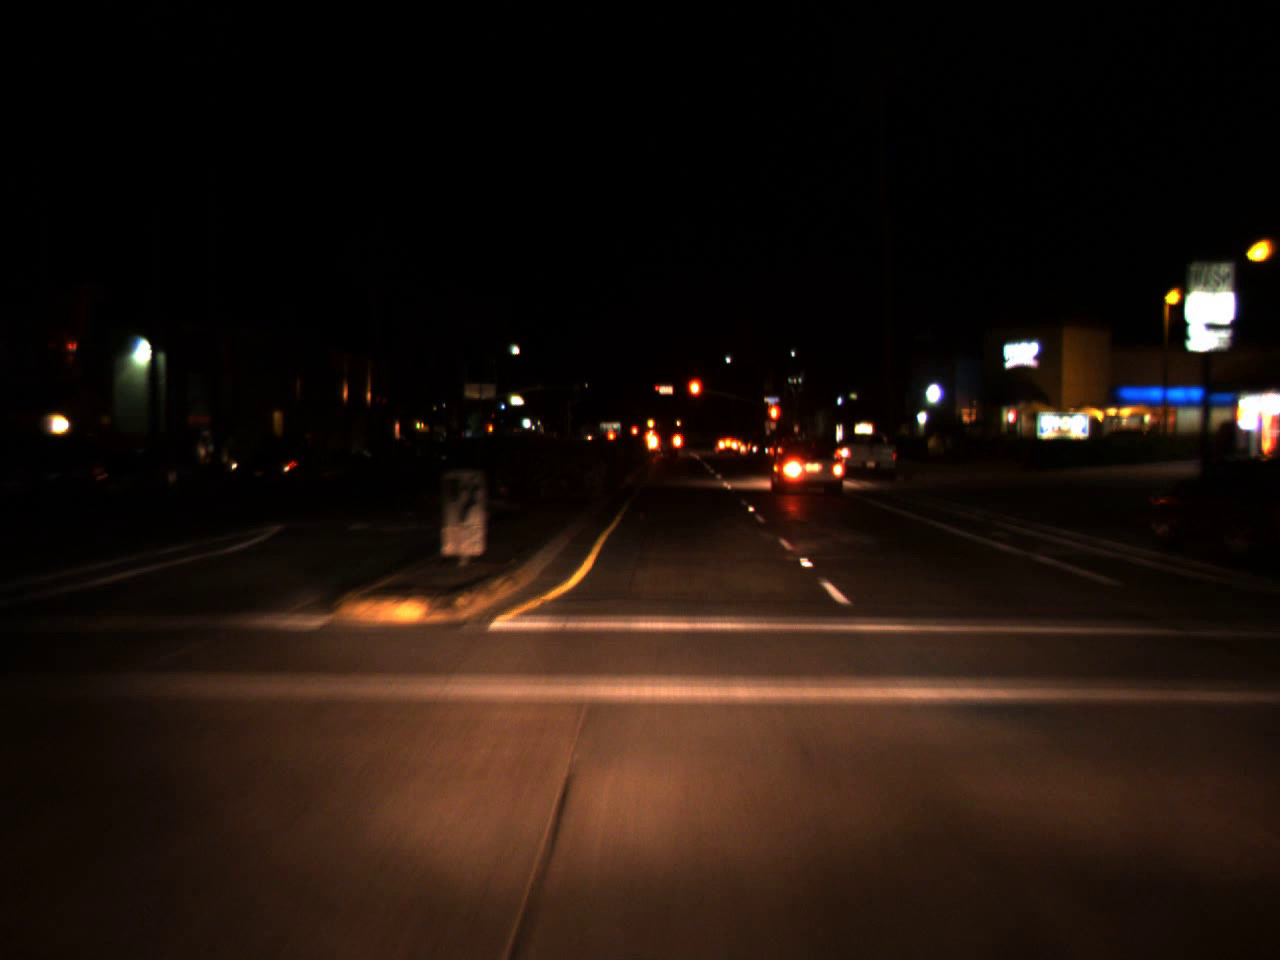stop: (685, 376, 704, 416), (765, 402, 781, 439), (655, 385, 661, 395)
